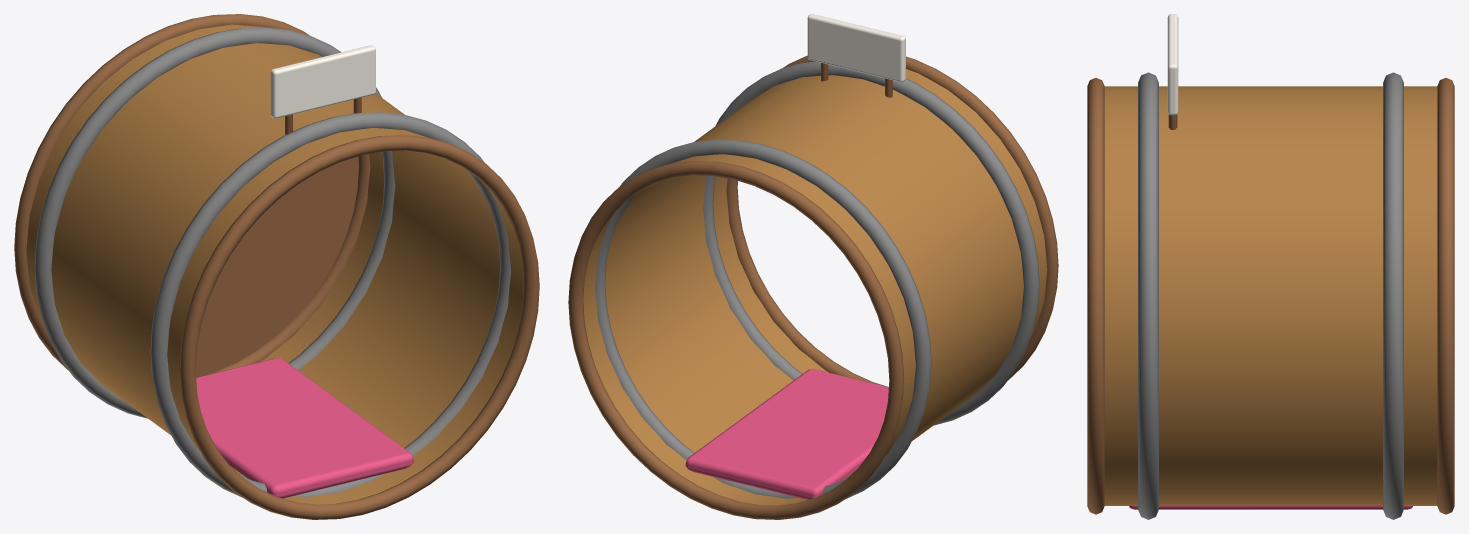
The model's file is cathouse-barrel.glb.
3 renders of one model, left to right at view 1: azimuth 30°, elevation 25°; view 2: azimuth 150°, elevation 25°; view 3: azimuth 270°, elevation 25°, orthographic. The views are drawn at different scales.
Size of the model in its own units: 1.28 by 1.45 by 1.05.
